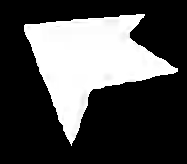Plane: (11, 5, 182, 157)
